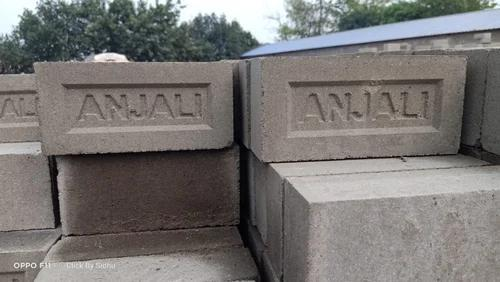brick: (262, 52, 467, 163), (35, 62, 233, 159), (310, 191, 500, 282), (55, 149, 239, 238), (0, 152, 56, 232), (0, 75, 35, 145)
